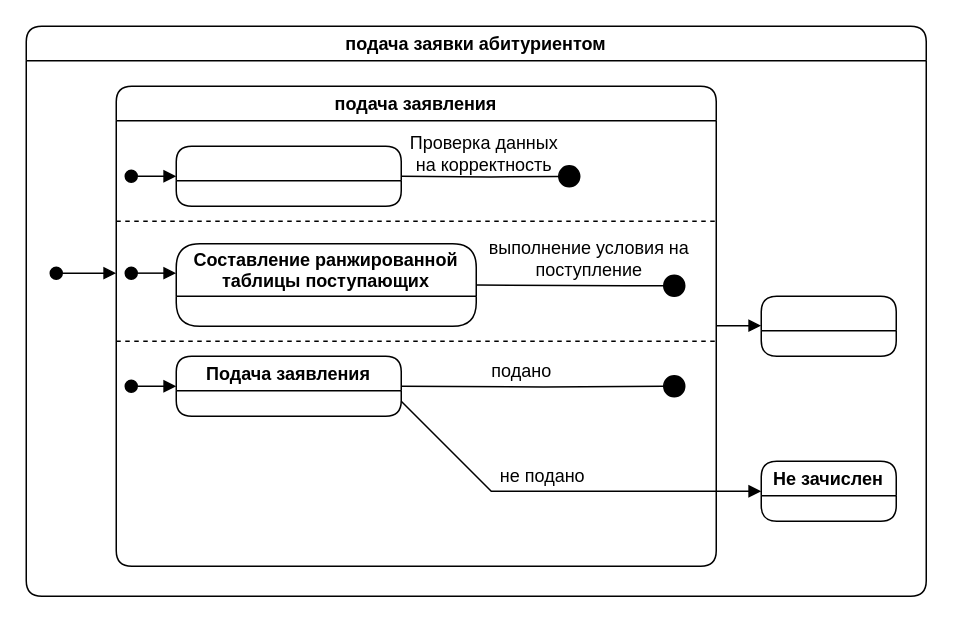
The diagram is 953 pixels wide and 623 high, and some of its shapes have lost their labels. Here are the shapes that lost their labels. From the top down, the centre of each, then its label:
At point (288, 175): "Заполнение данных".
At point (828, 325): "Зачислен".
